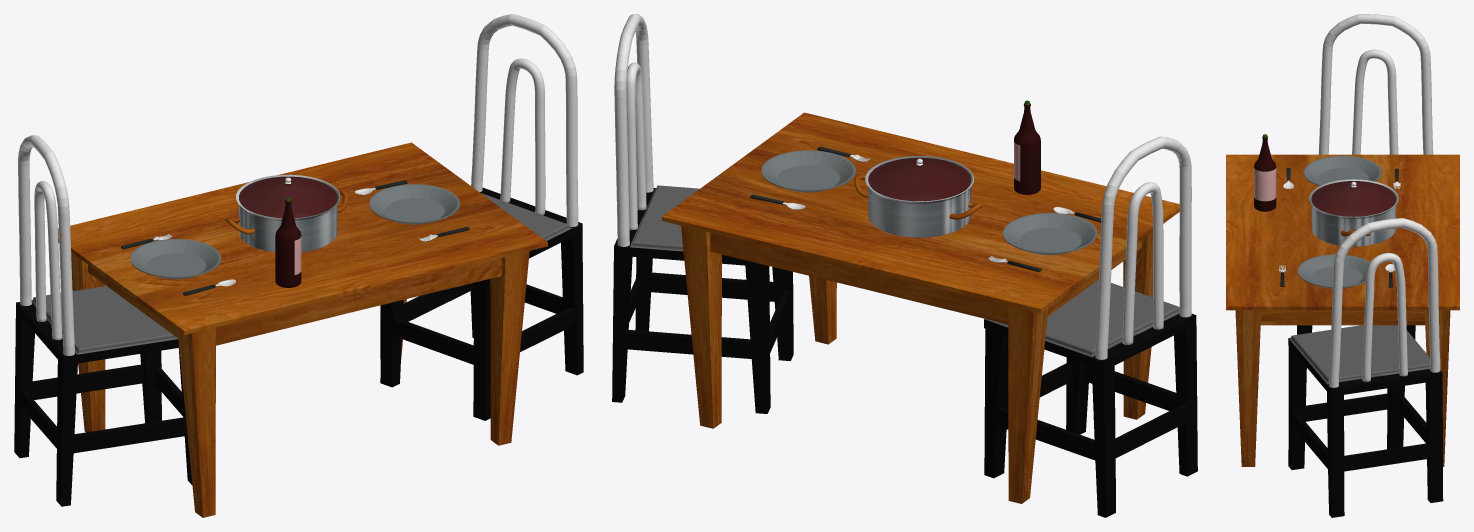
3 renders of one model, left to right at view 1: azimuth 30°, elevation 25°; view 2: azimuth 150°, elevation 25°; view 3: azimuth 270°, elevation 25°, orthographic. The views are drawn at different scales.
Visible parts, largest first — view 1: Plano.001, Plano.004, Plano.002, Cilindro.001, Cilindro.003, object 1, object 2, Cilindro, Cilindro.002, Cilindro.004; view 2: Plano.001, Plano.004, Plano.002, Cilindro.003, Cilindro.001, object 1, object 2, Cilindro, Cilindro.002, Cilindro.004; view 3: Plano.001, Plano.002, Cilindro.001, Cilindro.003, object 2, object 1, Cilindro.002, Cilindro, Cilindro.004.
Boxes of the visible parts, left/top/right/bottom form: Plano.001: left=58, top=142, right=547, bottom=517; Plano.004: left=14, top=286, right=192, bottom=506; Plano.002: left=380, top=187, right=583, bottom=420; Cilindro.001: left=471, top=14, right=578, bottom=226; Cilindro.003: left=18, top=135, right=74, bottom=355; object 1: left=225, top=174, right=348, bottom=252; object 2: left=239, top=176, right=337, bottom=218; Cilindro: left=369, top=184, right=459, bottom=224; Cilindro.002: left=130, top=239, right=221, bottom=279; Cilindro.004: left=275, top=197, right=301, bottom=287; Plano.001: left=662, top=112, right=1179, bottom=503; Plano.004: left=984, top=279, right=1197, bottom=517; Plano.002: left=612, top=185, right=793, bottom=413; Cilindro.003: left=1095, top=136, right=1191, bottom=359; Cilindro.001: left=614, top=14, right=653, bottom=246; object 1: left=854, top=156, right=982, bottom=237; object 2: left=868, top=157, right=971, bottom=201; Cilindro: left=761, top=150, right=855, bottom=192; Cilindro.002: left=1003, top=213, right=1097, bottom=254; Cilindro.004: left=1014, top=100, right=1040, bottom=194; Plano.001: left=1226, top=154, right=1459, bottom=466; Plano.002: left=1288, top=325, right=1443, bottom=517; Cilindro.001: left=1329, top=218, right=1440, bottom=387; Cilindro.003: left=1318, top=14, right=1433, bottom=154; object 2: left=1311, top=181, right=1396, bottom=216; object 1: left=1309, top=179, right=1398, bottom=246; Cilindro.002: left=1304, top=156, right=1381, bottom=185; Cilindro: left=1297, top=254, right=1369, bottom=288; Cilindro.004: left=1254, top=134, right=1276, bottom=211.
Size of the model in its own units: 7.14 by 4.35 by 3.19.
15 materials, 3 textured.
